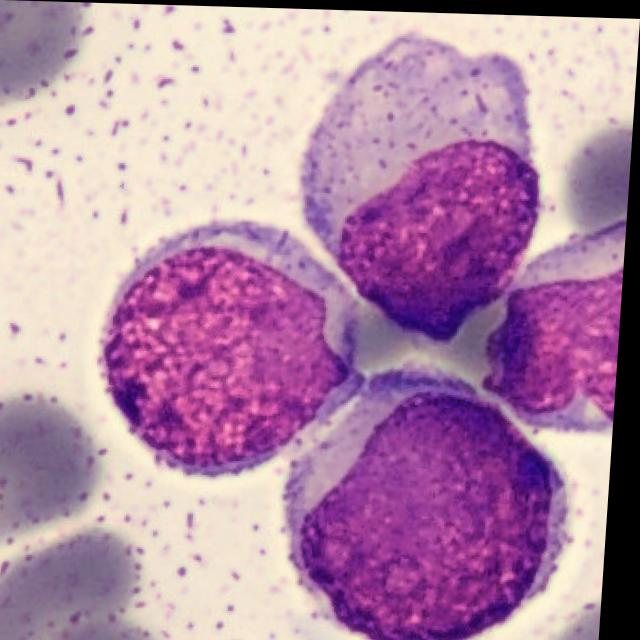Mieloblasto: (295, 368, 574, 640), (301, 32, 544, 342), (102, 221, 356, 475)
